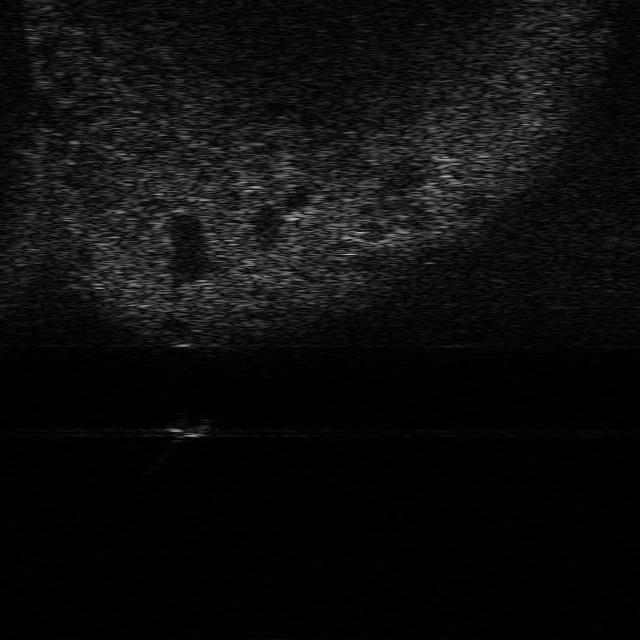cube: (165, 413, 211, 439)
